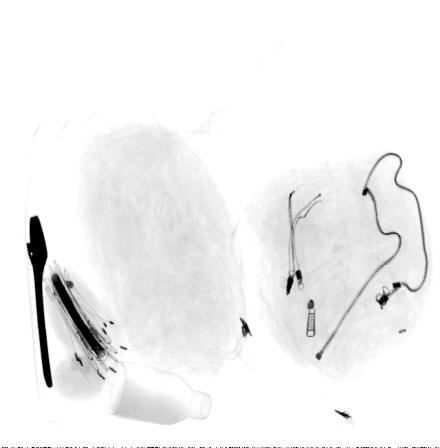Wrench: (25, 212, 54, 392)
